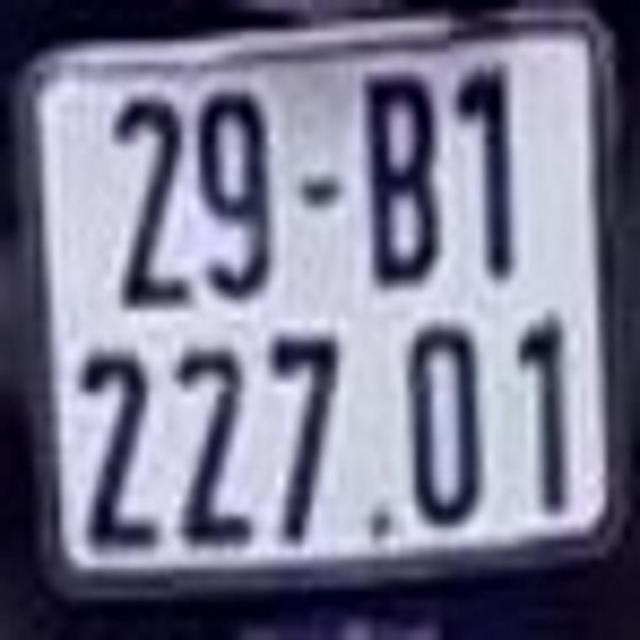0: (410, 322, 484, 527)
1: (456, 59, 516, 282), (514, 313, 572, 521)
2: (112, 91, 190, 311), (78, 346, 158, 545), (178, 348, 254, 540)
7: (270, 334, 337, 542)
9: (200, 89, 272, 296)
B: (364, 73, 441, 282)
